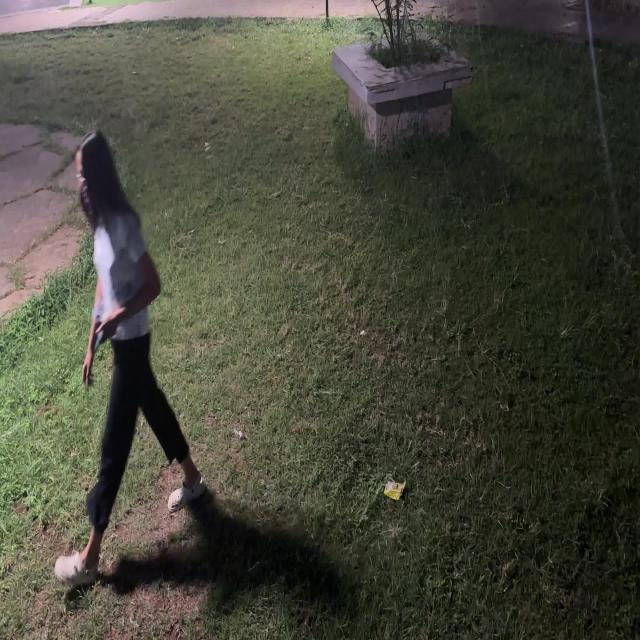human: (30, 111, 217, 588)
trash: (381, 473, 409, 508)
